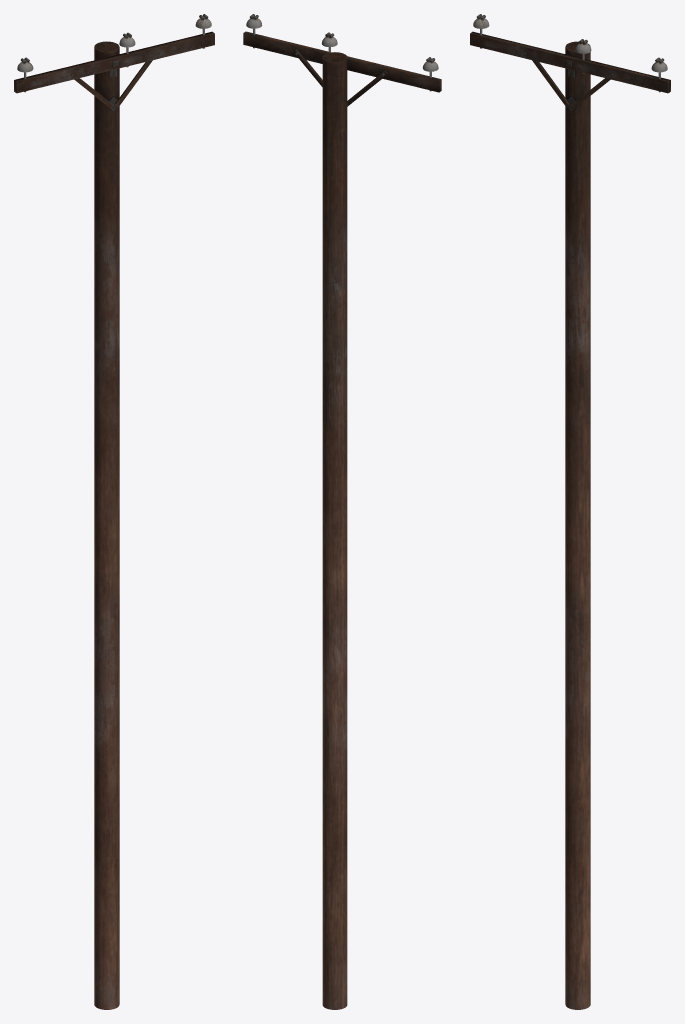
Rendered from wood_pole_03.fbx.
3 renders of one model, left to right at view 1: azimuth 30°, elevation 25°; view 2: azimuth 150°, elevation 25°; view 3: azimuth 330°, elevation 25°, orthographic.
Visible parts, largest first — view 1: 3_wood_pole; view 2: 3_wood_pole; view 3: 3_wood_pole.
Part boxes in pixels (x1,y1,x2,y2): 3_wood_pole: (14, 14, 214, 1009); 3_wood_pole: (243, 14, 441, 1009); 3_wood_pole: (470, 14, 670, 1009).
Size of the model in its own units: 300 by 1407 by 46.95.
Materials: 1 (1 with a texture image).
